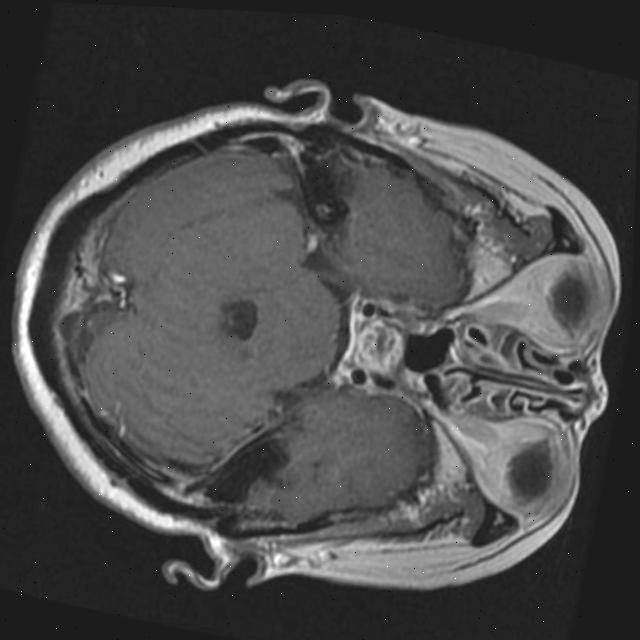Pituitary: (349, 313, 411, 381)
